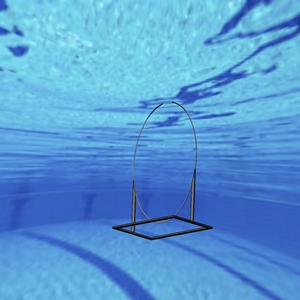circle: (111, 99, 213, 240)
